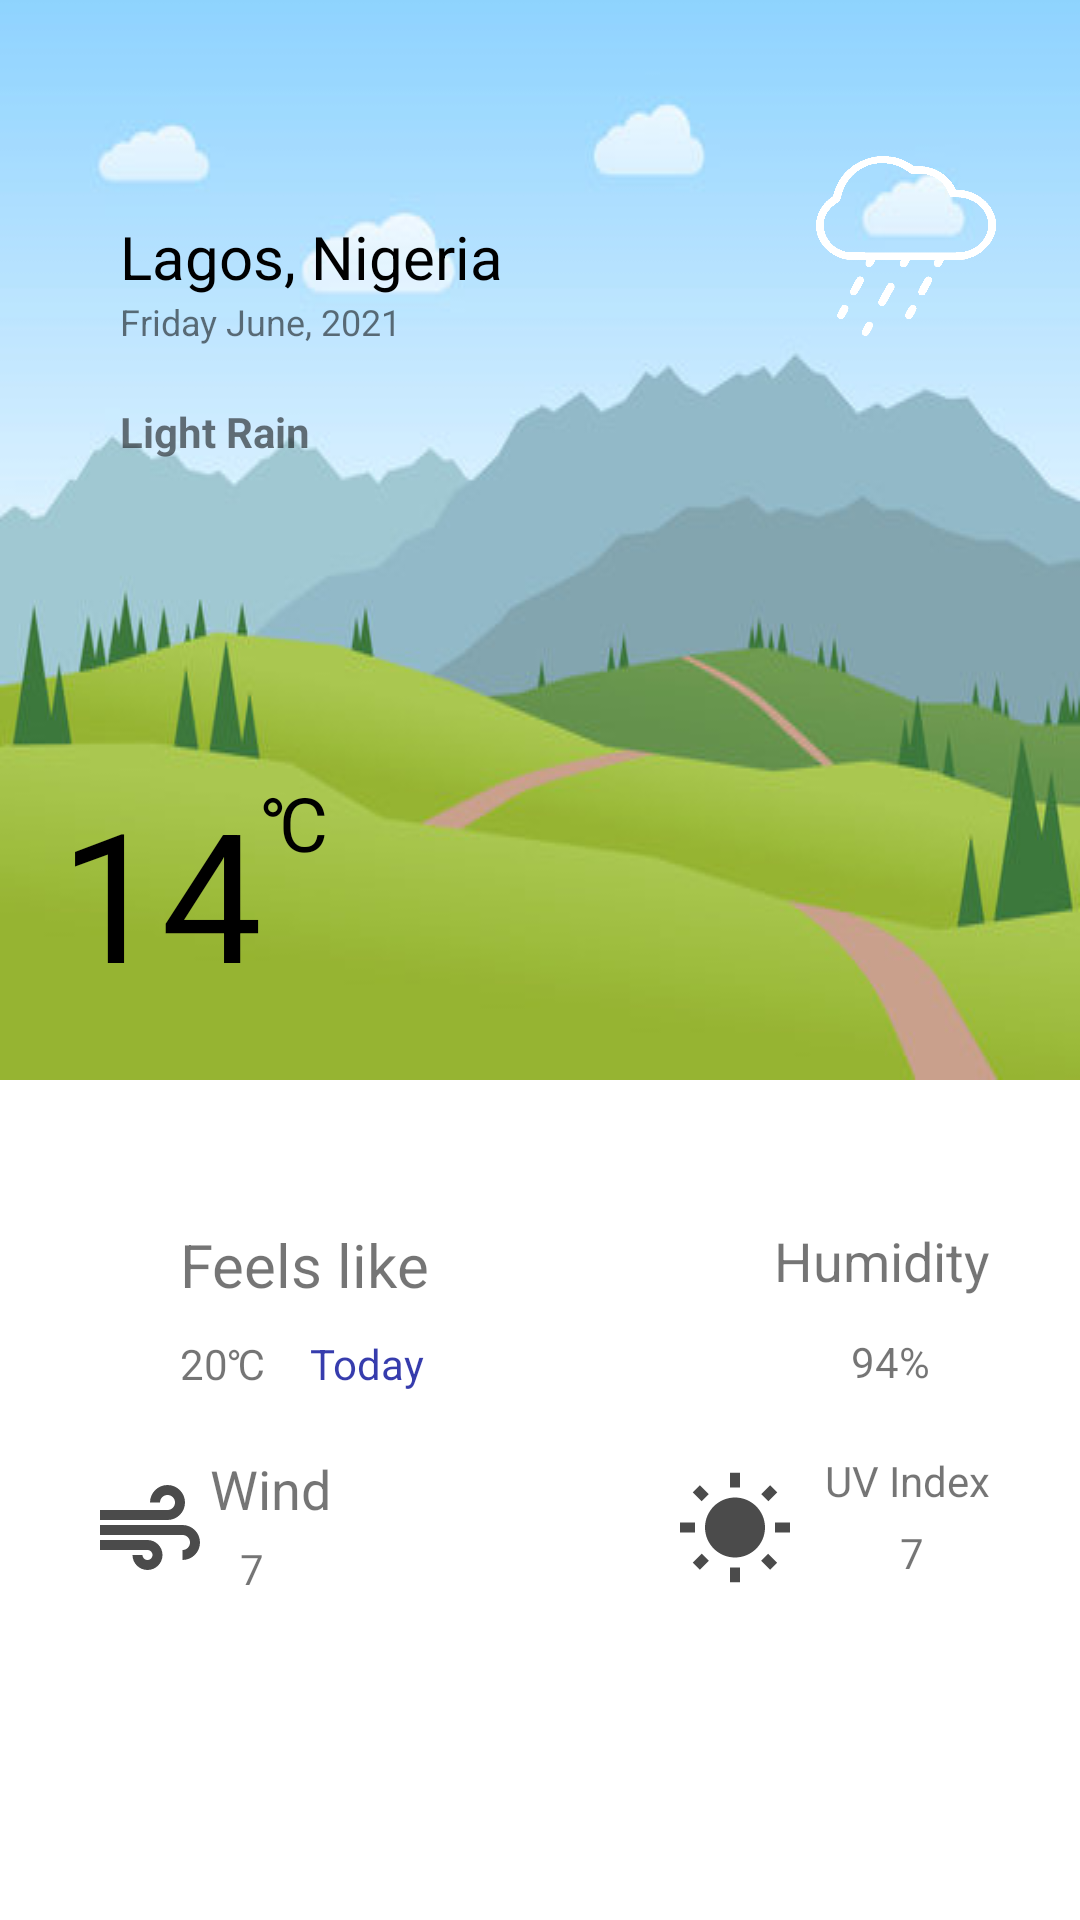

Screen size 1080 x 1920. Icon name, then its box in pixels as (x1, y1, x2, y2):
air: (100, 1485, 200, 1570)
cloud rain: (816, 156, 996, 336)
sunny: (680, 1472, 790, 1583)
